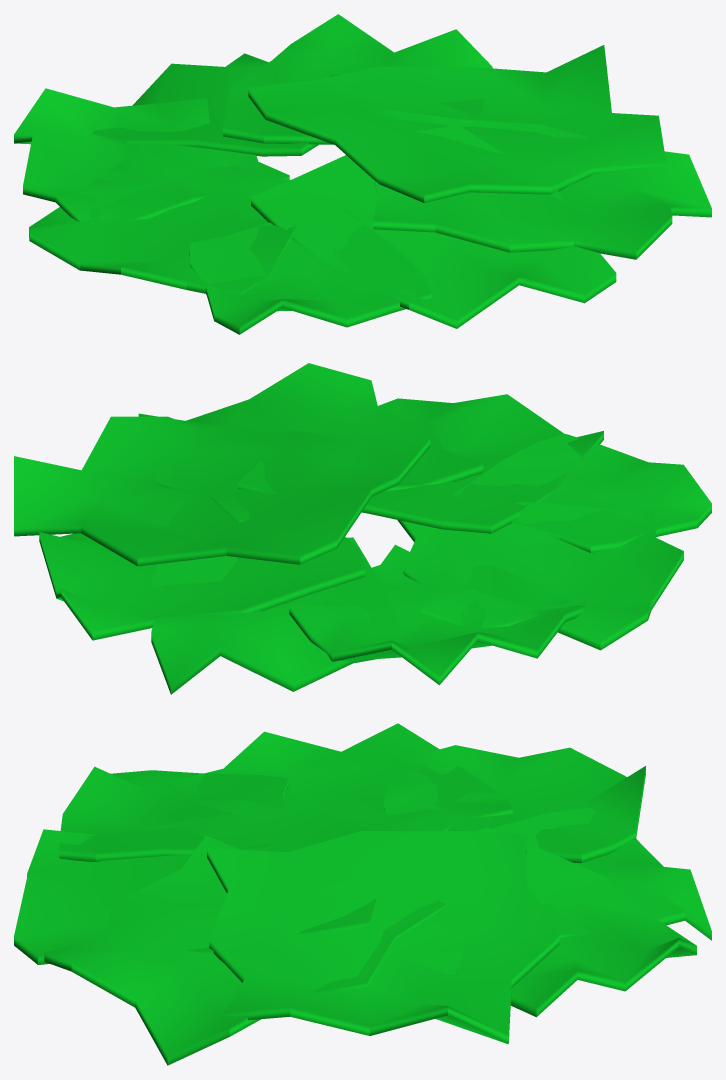
File: burger_lettuce.fbx
3 views of the same model, one above another, from view 1: azimuth 30°, elevation 25°; view 2: azimuth 150°, elevation 25°; view 3: azimuth 270°, elevation 25° (orthographic). The views are drawn at different scales.
Visible parts, largest first — view 1: lettuce; view 2: lettuce; view 3: lettuce.
Boxes of the visible parts, x1,y1,x2,y2 form: lettuce: (14, 14, 711, 334); lettuce: (14, 363, 711, 694); lettuce: (14, 723, 711, 1065).
Bounding box in the file's own units: 288 × 40.96 × 276.
1 material, 1 textured.
